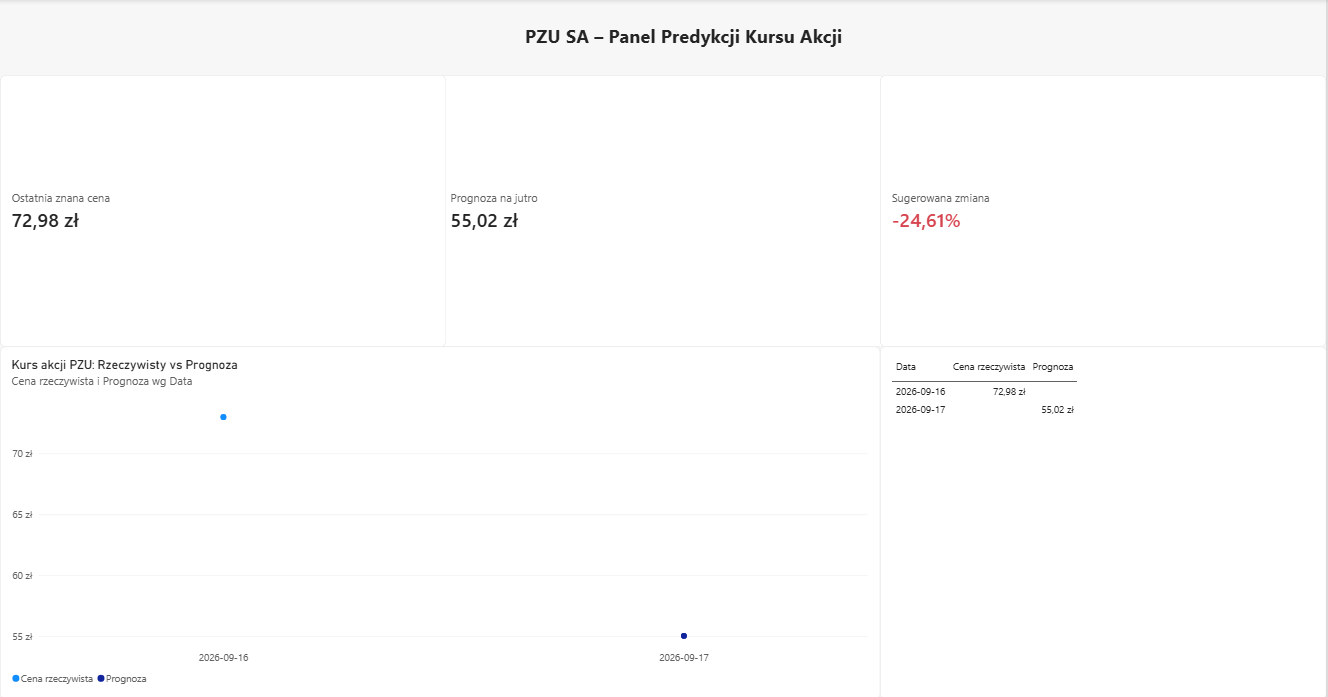

This screenshot's page, from the dashboard's own definition file:
{"tool":"powerbi","page":{"name":"Dashboard","canvas":[1920,1080],"ordinal":0},"visuals":[{"type":"lineChart","title":"Kurs akcji PZU: Rzeczywisty vs Prognoza","fields":{"Category":["predictions.Data"],"Y":["Sum(predictions.Cena_Rzeczywista)","Sum(predictions.Cena_Przewidywana)"]},"box":[29,347.5,1245,649.7],"z":0},{"type":"cardVisual","fields":{"Data":["predictions.PrognozaNaJutro"]},"box":[658.7,110.4,615.3,213.5],"z":1000},{"type":"cardVisual","fields":{"Data":["predictions.OstatniaCena"]},"box":[29,110.4,615.3,213.5],"z":2000},{"type":"cardVisual","fields":{"Data":["predictions.SugerowanaZmiana"]},"box":[1303,130.3,580.9,342],"z":3000},{"type":"tableEx","fields":{"Values":["predictions.Data","Sum(predictions.Cena_Rzeczywista)","Sum(predictions.Cena_Przewidywana)"]},"box":[1303,504.9,591.8,427.1],"z":4000},{"type":"textbox","box":[760.1,34.4,542.9,76],"z":5000}]}

Visuals, with their boxes in screenshot pixels (x1, y1, x2, y2):
"Kurs akcji PZU: Rzeczywisty vs Prognoza" lineChart: [44,193,898,639]
cardVisual - predictions.PrognozaNaJutro: [476,31,898,177]
cardVisual - predictions.OstatniaCena: [44,31,466,177]
cardVisual - predictions.SugerowanaZmiana: [918,44,1316,279]
tableEx - predictions.Data x Sum(predictions.Cena_Rzeczywista): [918,301,1323,594]
textbox: [545,0,918,31]
